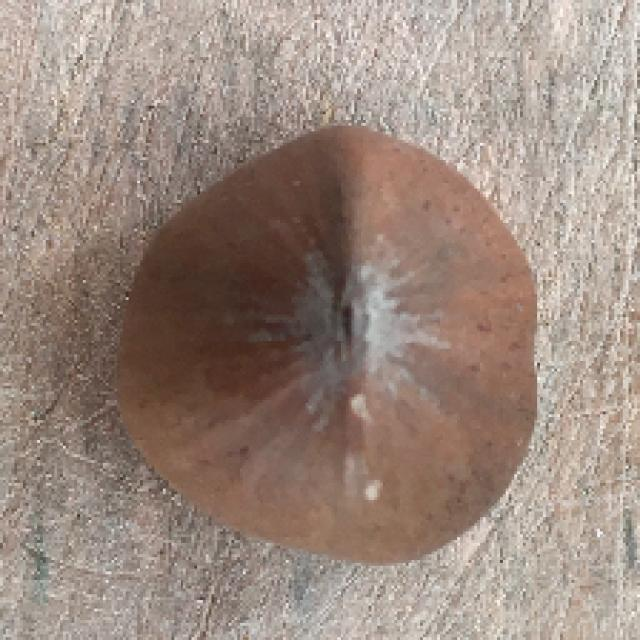DamagedHazelnut: (120, 125, 543, 564)
